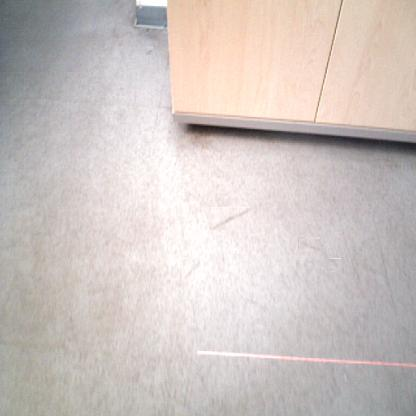mark: (210, 207, 250, 230), (182, 258, 200, 280), (298, 237, 320, 252), (330, 258, 341, 270), (146, 45, 154, 55)
